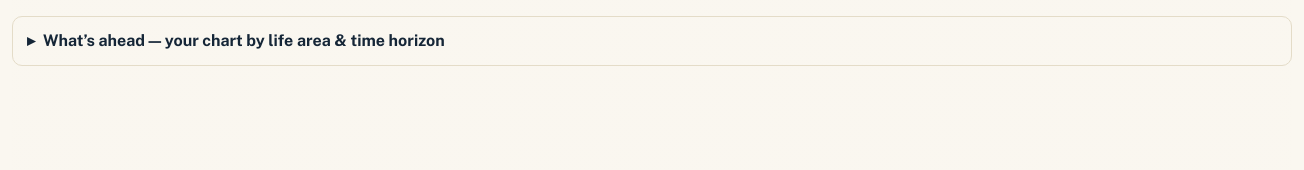
Test: WhatsAhead (Item G) › free/paid: locked teaser shown when not free
Step 1. Click the button with test id "whats-ahead-toggle" → (244, 40), box [12,16,1292,66]
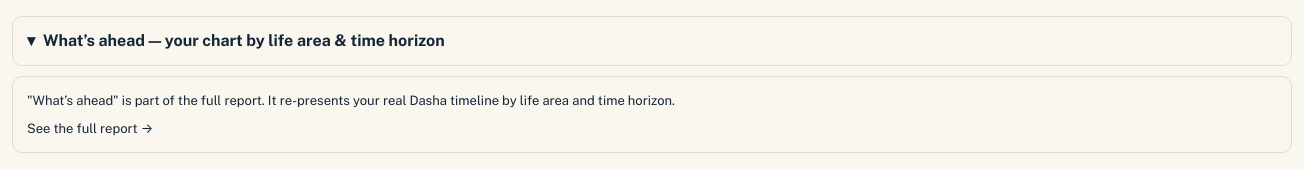
Check: the element with test id "whats-ahead-locked" is shown, box [12,76,1292,153]
